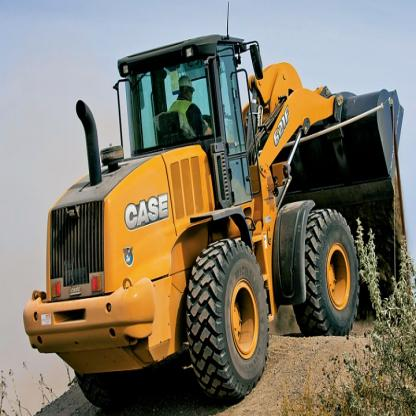bull_dozer/loader/grader: (25, 32, 396, 380)
